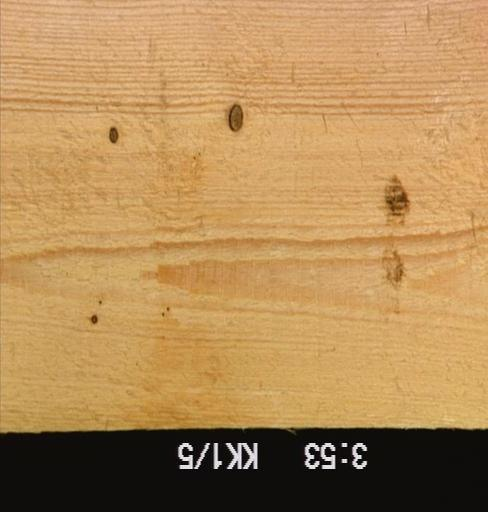dry_knot: (227, 103, 243, 134)
small_knot: (107, 126, 119, 146), (89, 313, 98, 326)
